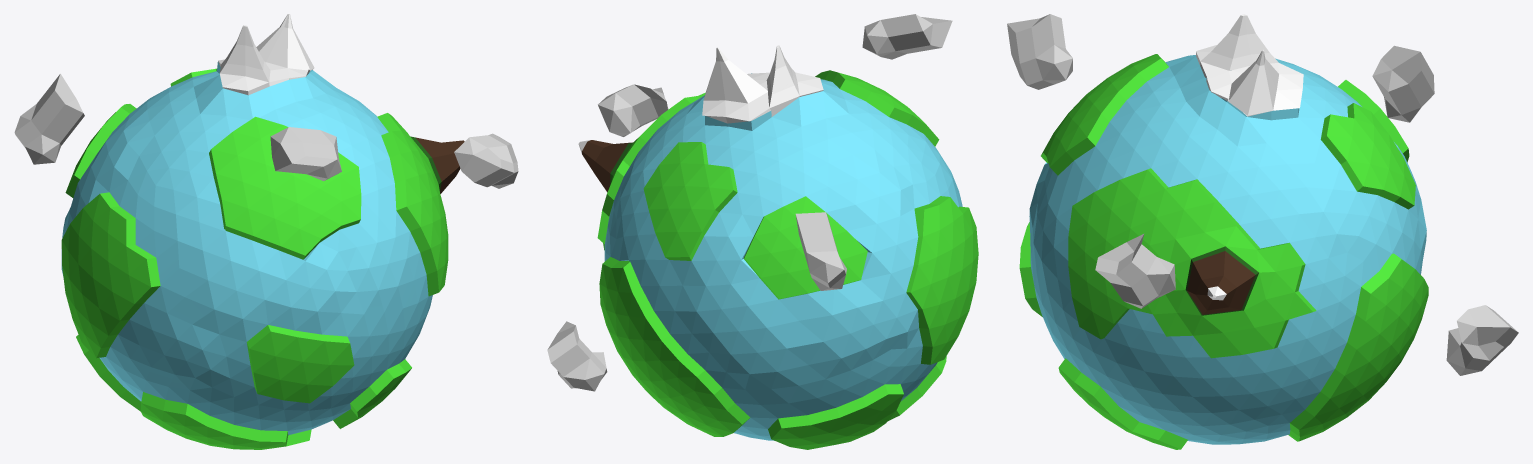
Rendered from earth345.fbx.
3 renders of one model, left to right at view 1: azimuth 30°, elevation 25°; view 2: azimuth 150°, elevation 25°; view 3: azimuth 270°, elevation 25°, orthographic. The views are drawn at different scales.
Visible parts, largest first — view 1: Icosphere, Icosphere.004_Icosphere.005, Icosphere.001_Icosphere.002, Icosphere.002_Icosphere.003; view 2: Icosphere, Icosphere.001_Icosphere.002, Icosphere.004_Icosphere.005, Icosphere.003_Icosphere.004, Icosphere.002_Icosphere.003; view 3: Icosphere, Icosphere.001_Icosphere.002, Icosphere.002_Icosphere.003, Icosphere.004_Icosphere.005, Icosphere.003_Icosphere.004.
Part boxes in pixels (<box>): Icosphere: <box>61,14,464,449</box>; Icosphere.004_Icosphere.005: <box>14,73,84,164</box>; Icosphere.001_Icosphere.002: <box>270,127,341,181</box>; Icosphere.002_Icosphere.003: <box>454,133,518,188</box>; Icosphere: <box>578,45,978,449</box>; Icosphere.001_Icosphere.002: <box>862,14,952,59</box>; Icosphere.004_Icosphere.005: <box>795,212,846,290</box>; Icosphere.003_Icosphere.004: <box>547,321,607,391</box>; Icosphere.002_Icosphere.003: <box>598,84,668,136</box>; Icosphere: <box>1019,14,1428,449</box>; Icosphere.001_Icosphere.002: <box>1007,14,1072,89</box>; Icosphere.002_Icosphere.003: <box>1095,234,1175,308</box>; Icosphere.004_Icosphere.005: <box>1372,45,1434,122</box>; Icosphere.003_Icosphere.004: <box>1446,305,1518,375</box>.
Bounding box in the file's own units: 244 × 236 × 260.
